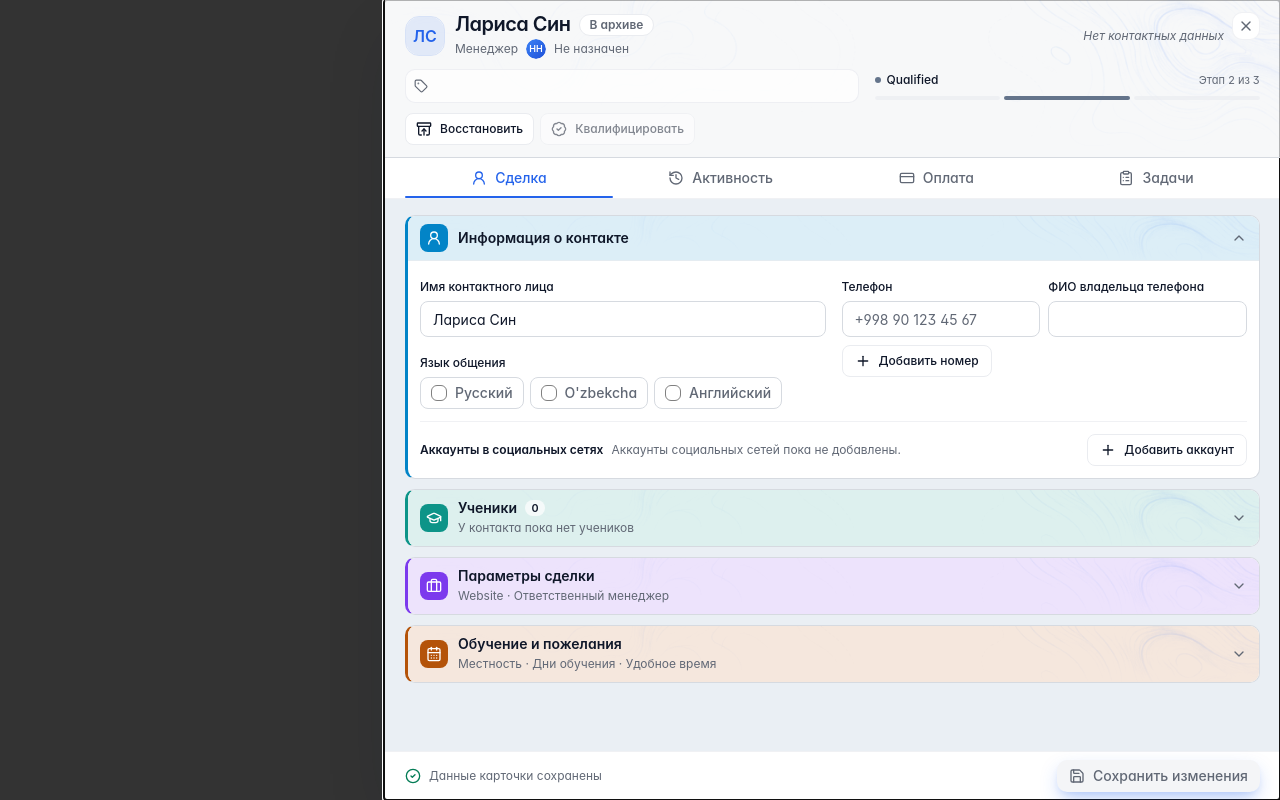
Test: lead sheet archive quick actions › restores the previous stage, refreshes the card and lists, and preserves an unsaved draft
Replace the text in the field labelled "Имя контактного лица" with "Unsaved name" at (623, 319), box [420,301,826,337]
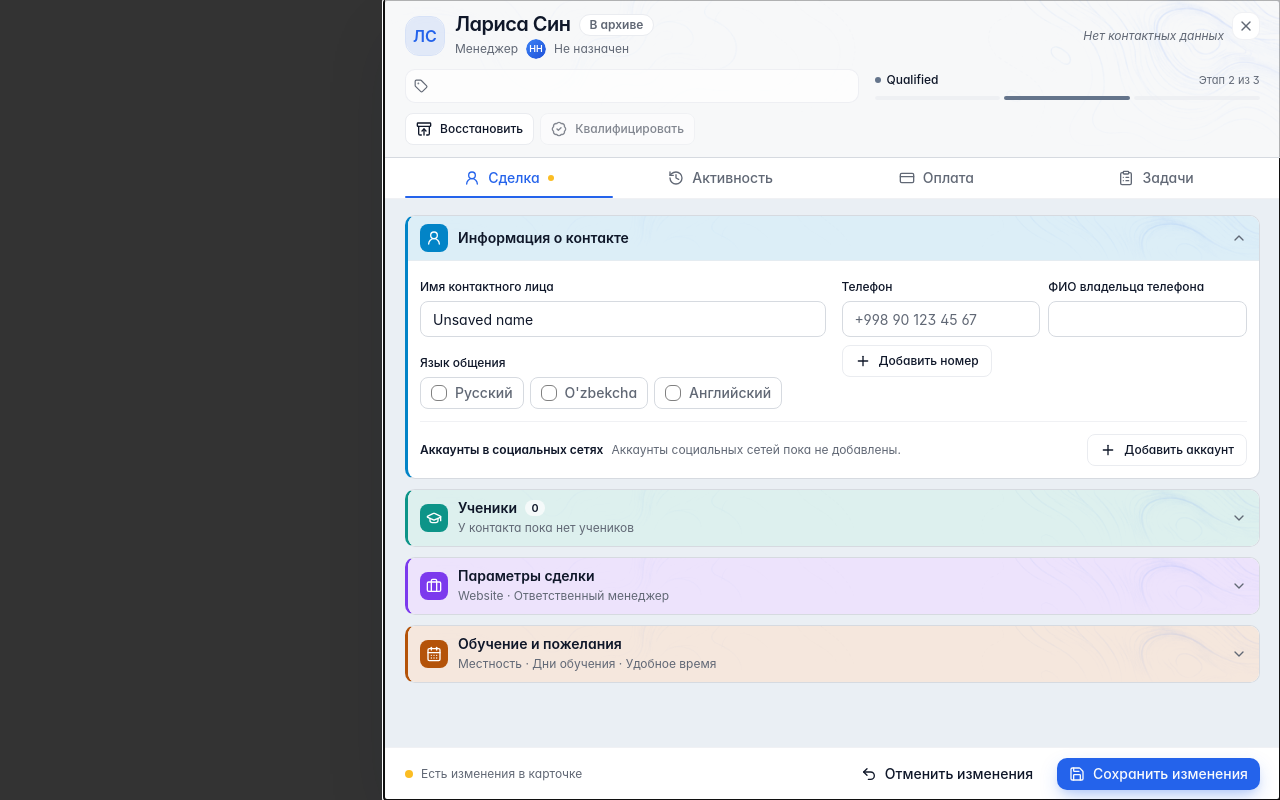
Expected: the button "Архивировать" is not shown
Click the button "Восстановить" at (470, 129), box [405,113,534,145]
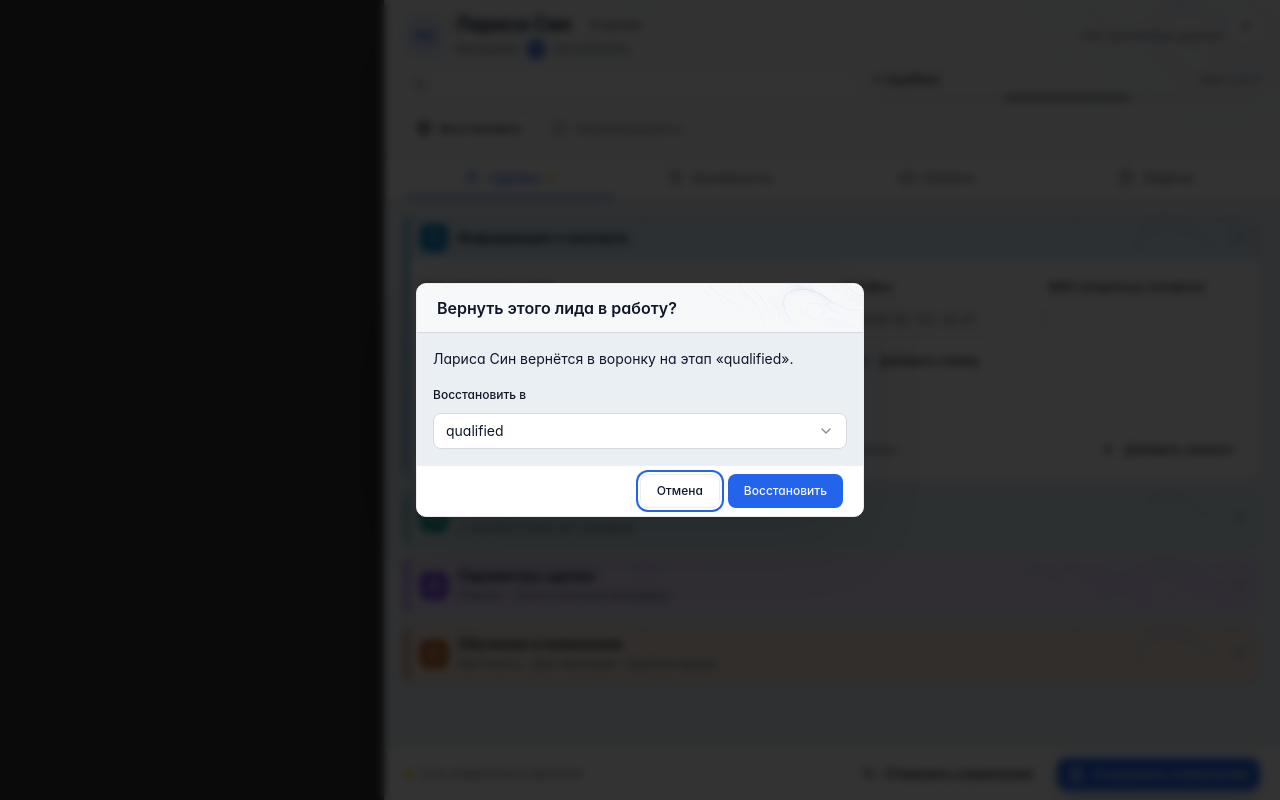
Result: the dropdown reads "qualified" at [433,413,847,449]
Click the button "Восстановить" at (785, 491), box [728,474,843,508]
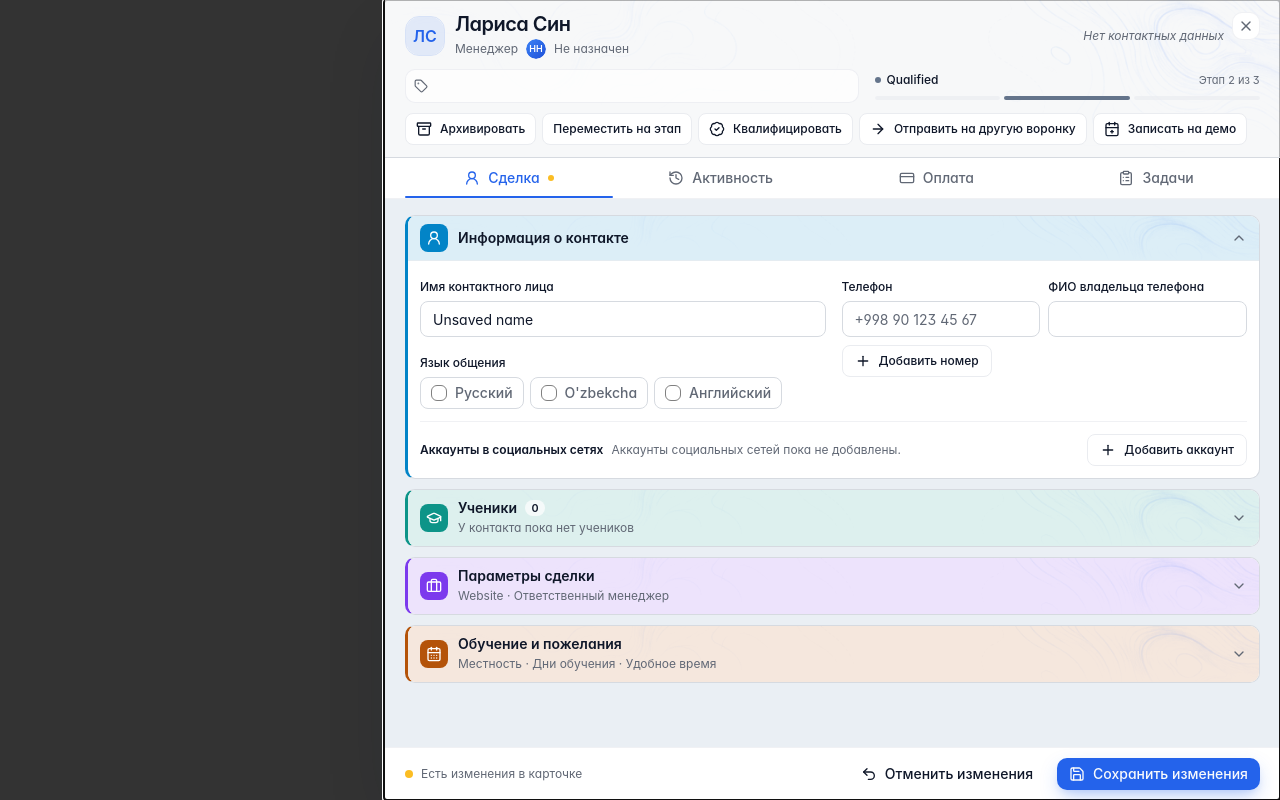
Result: the button "Архивировать" is shown at [405,113,536,145]
